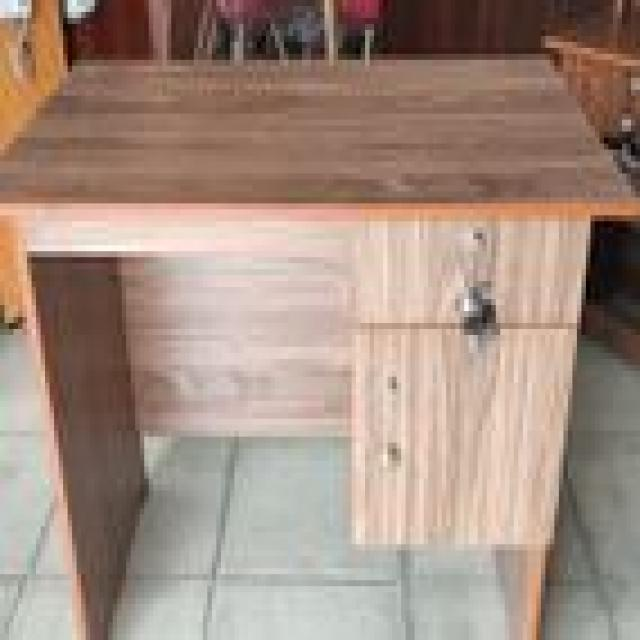others: (4, 42, 631, 628)
